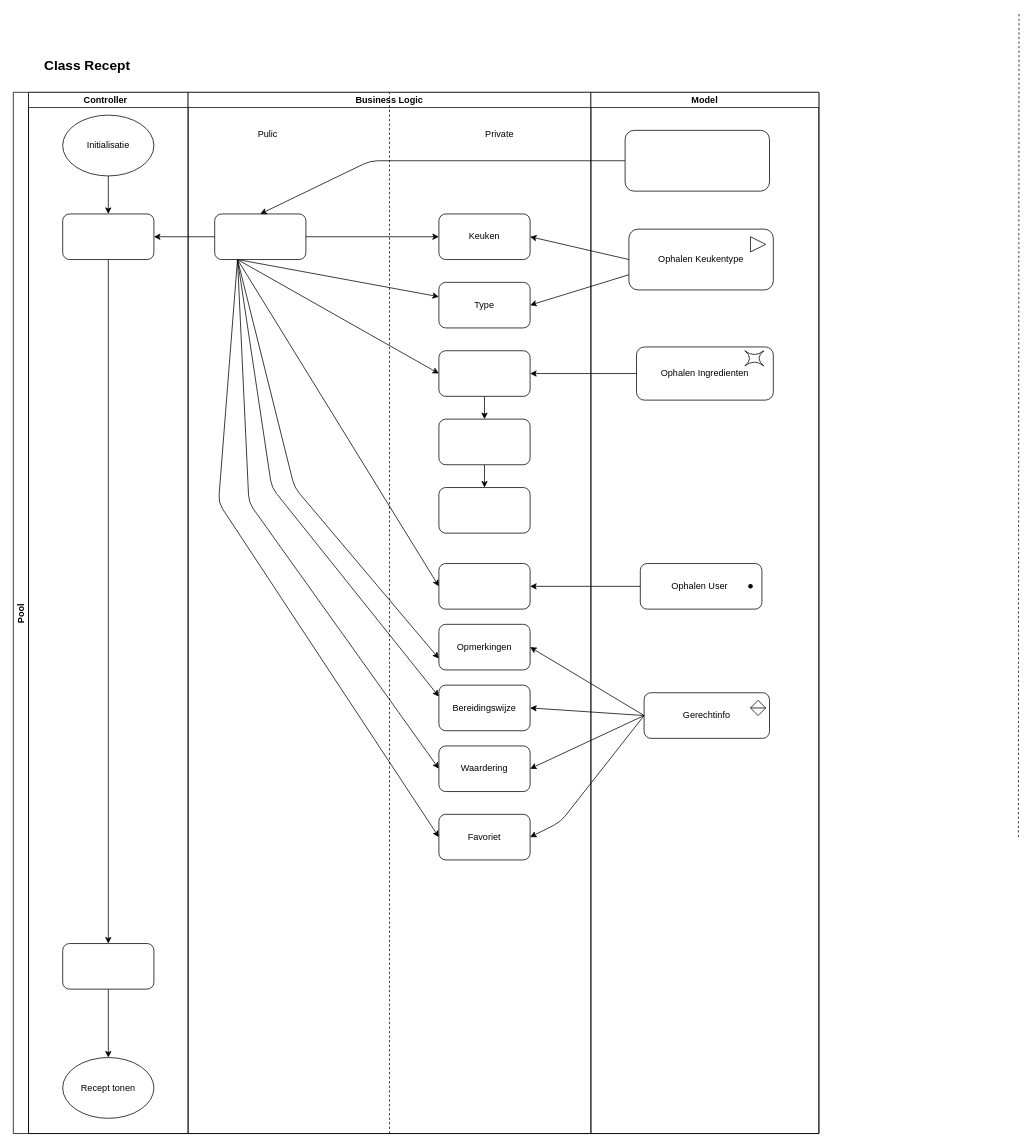
This 1034x1148 diagram has some shape labels left out. Each missing label, with the centre of its shape:
"Calorieen berekening" belongs at pixel 484 441.
"HTML" belongs at pixel 108 966.
"Ingredienten" belongs at pixel 484 373.
"Ophalen recept" belongs at pixel 108 236.
"Prijs berekening" belongs at pixel 484 510.
"Recept_id" belongs at pixel 697 160.
"Selecteer recept" belongs at pixel 260 236.
"User" belongs at pixel 484 586.
